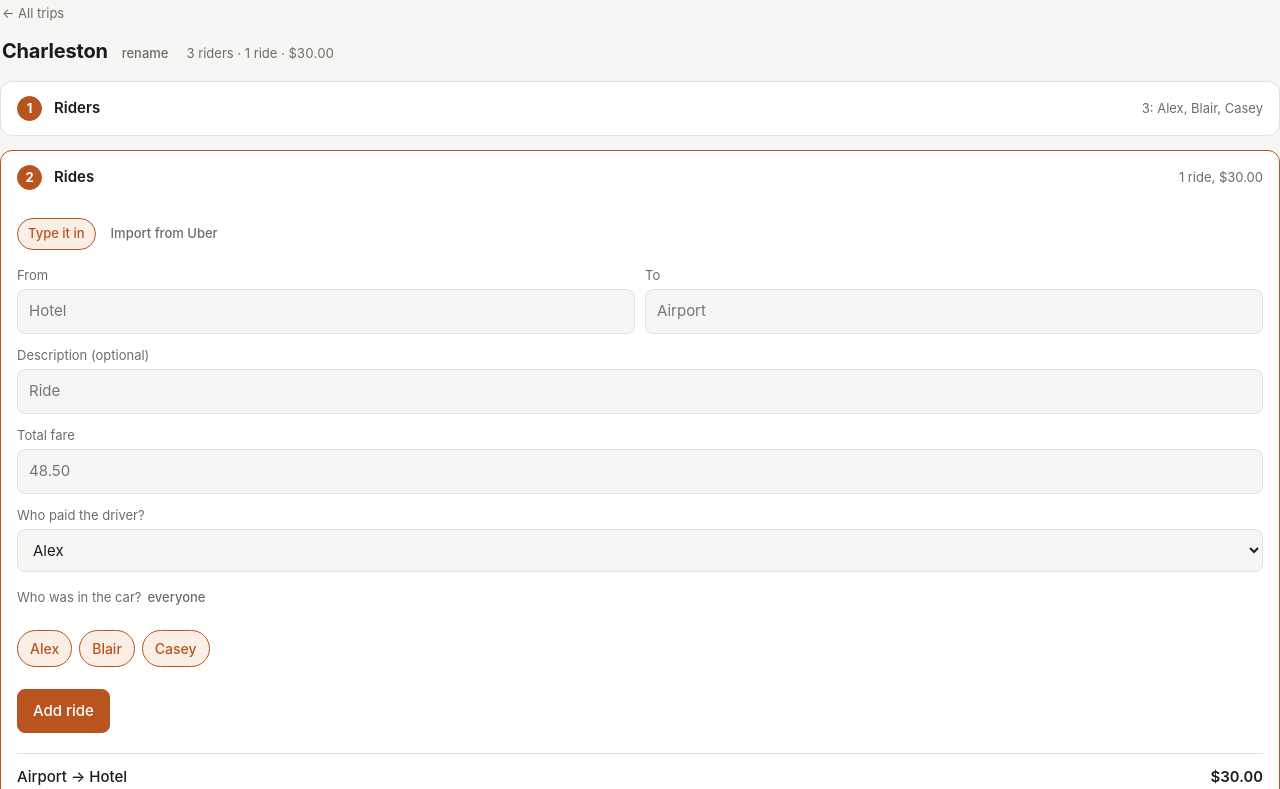
trip page › reports a bad fare instead of saving it
Type "twelve" into the field with id "ride-amount" at (640, 471), box top-left (17, 449), bottom-right (1263, 494)
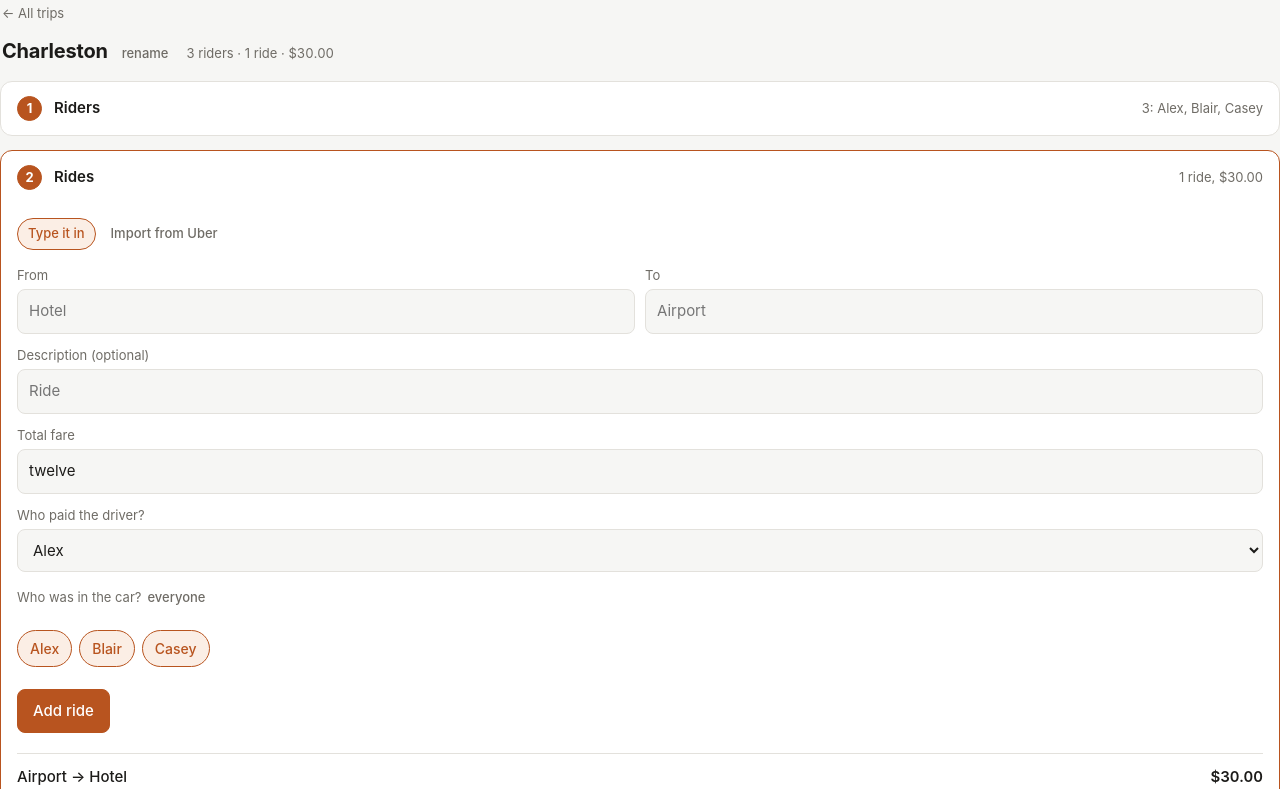
Click the button "Add ride" at (63, 711), box top-left (17, 688), bottom-right (110, 733)
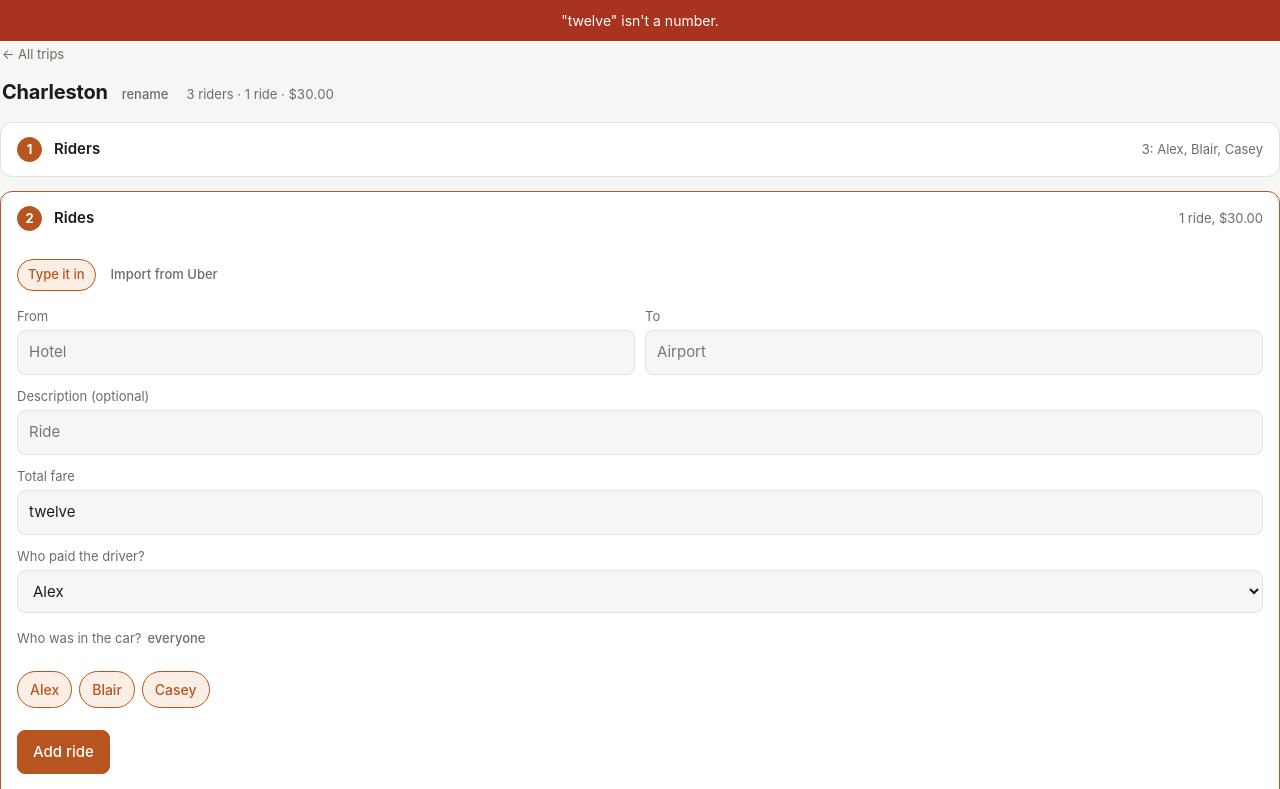
Check: the text with class "err" shows "isn't a number", box top-left (561, 12), bottom-right (719, 29)
